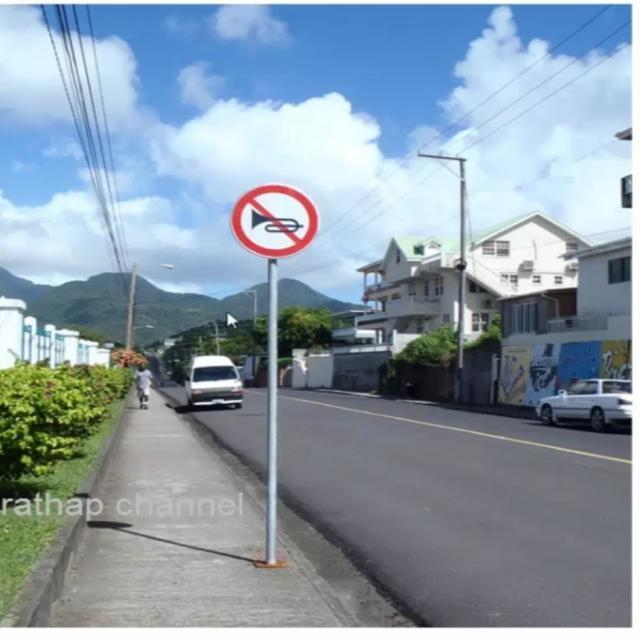horn prohibited: (236, 183, 318, 258)
